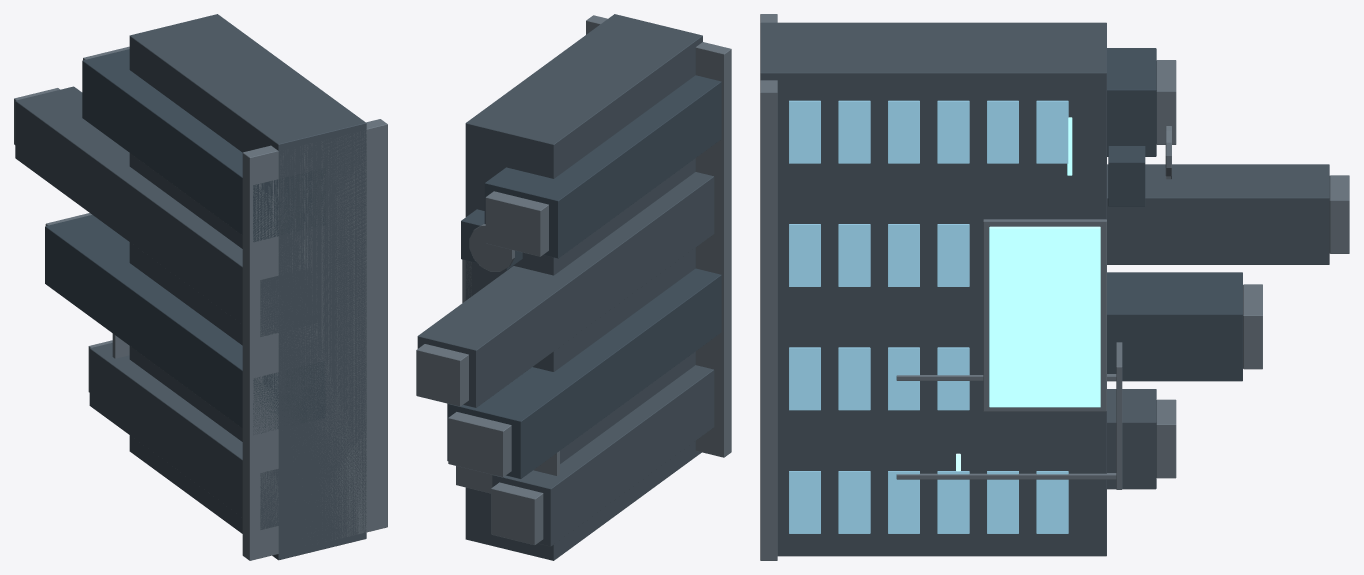
File: far_facade_shell_rift_l.glb
3 renders of one model, left to right at view 1: azimuth 30°, elevation 25°; view 2: azimuth 150°, elevation 25°; view 3: azimuth 270°, elevation 25°, orthographic. The views are drawn at different scales.
Parts seen in each view (by area): view 1: FlightKit_FarFacadeMass_rift_L; view 2: FlightKit_FarFacadeMass_rift_L; view 3: FlightKit_FarFacadeMass_rift_L.
Boxes of the visible parts, <box> form: FlightKit_FarFacadeMass_rift_L: <box>14,14,387,560</box>; FlightKit_FarFacadeMass_rift_L: <box>416,14,731,560</box>; FlightKit_FarFacadeMass_rift_L: <box>760,14,1349,560</box>.
Bounding box in the file's own units: 7.5 × 21.56 × 23.8.
